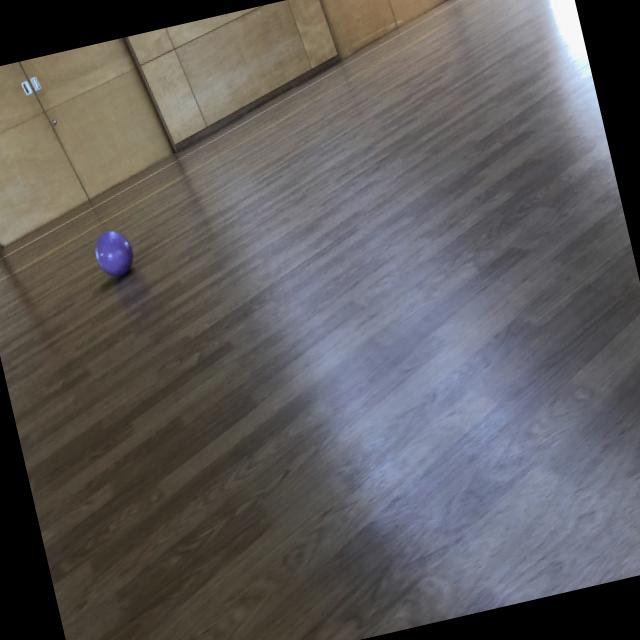purple_ball: (89, 226, 136, 280)
